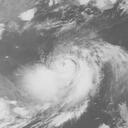cyclone: (22, 38, 106, 108)
